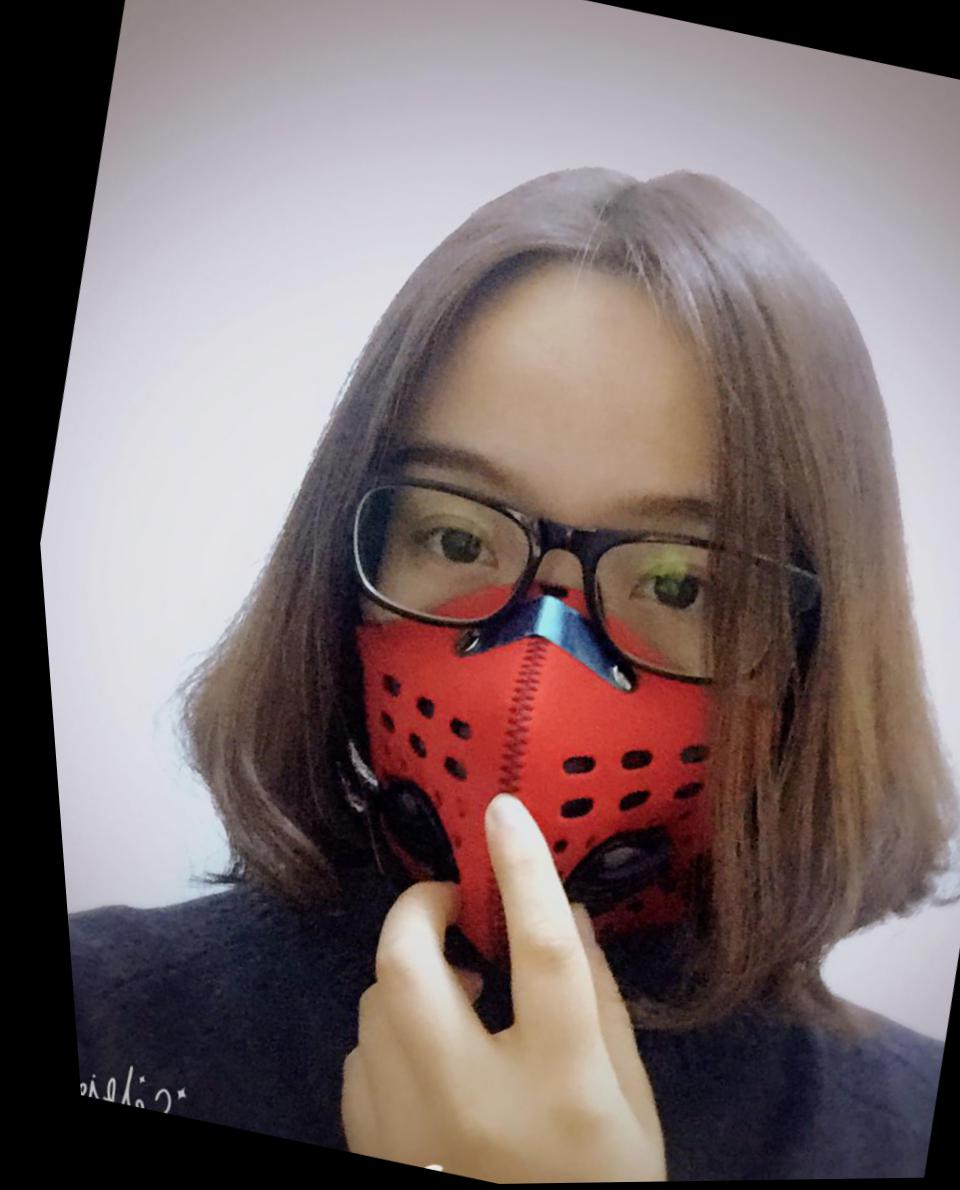OK: (256, 399, 843, 1015)
